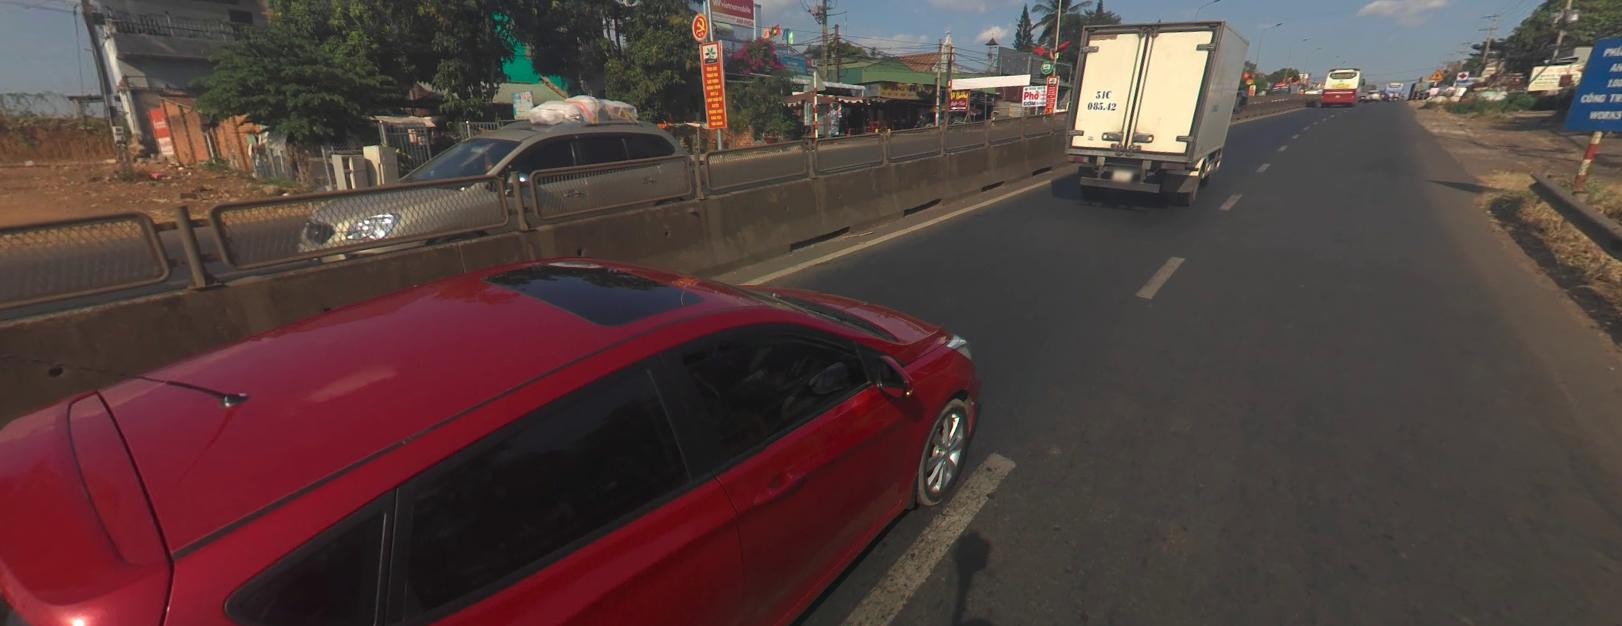Nguy hiem: (1428, 68, 1445, 78)
